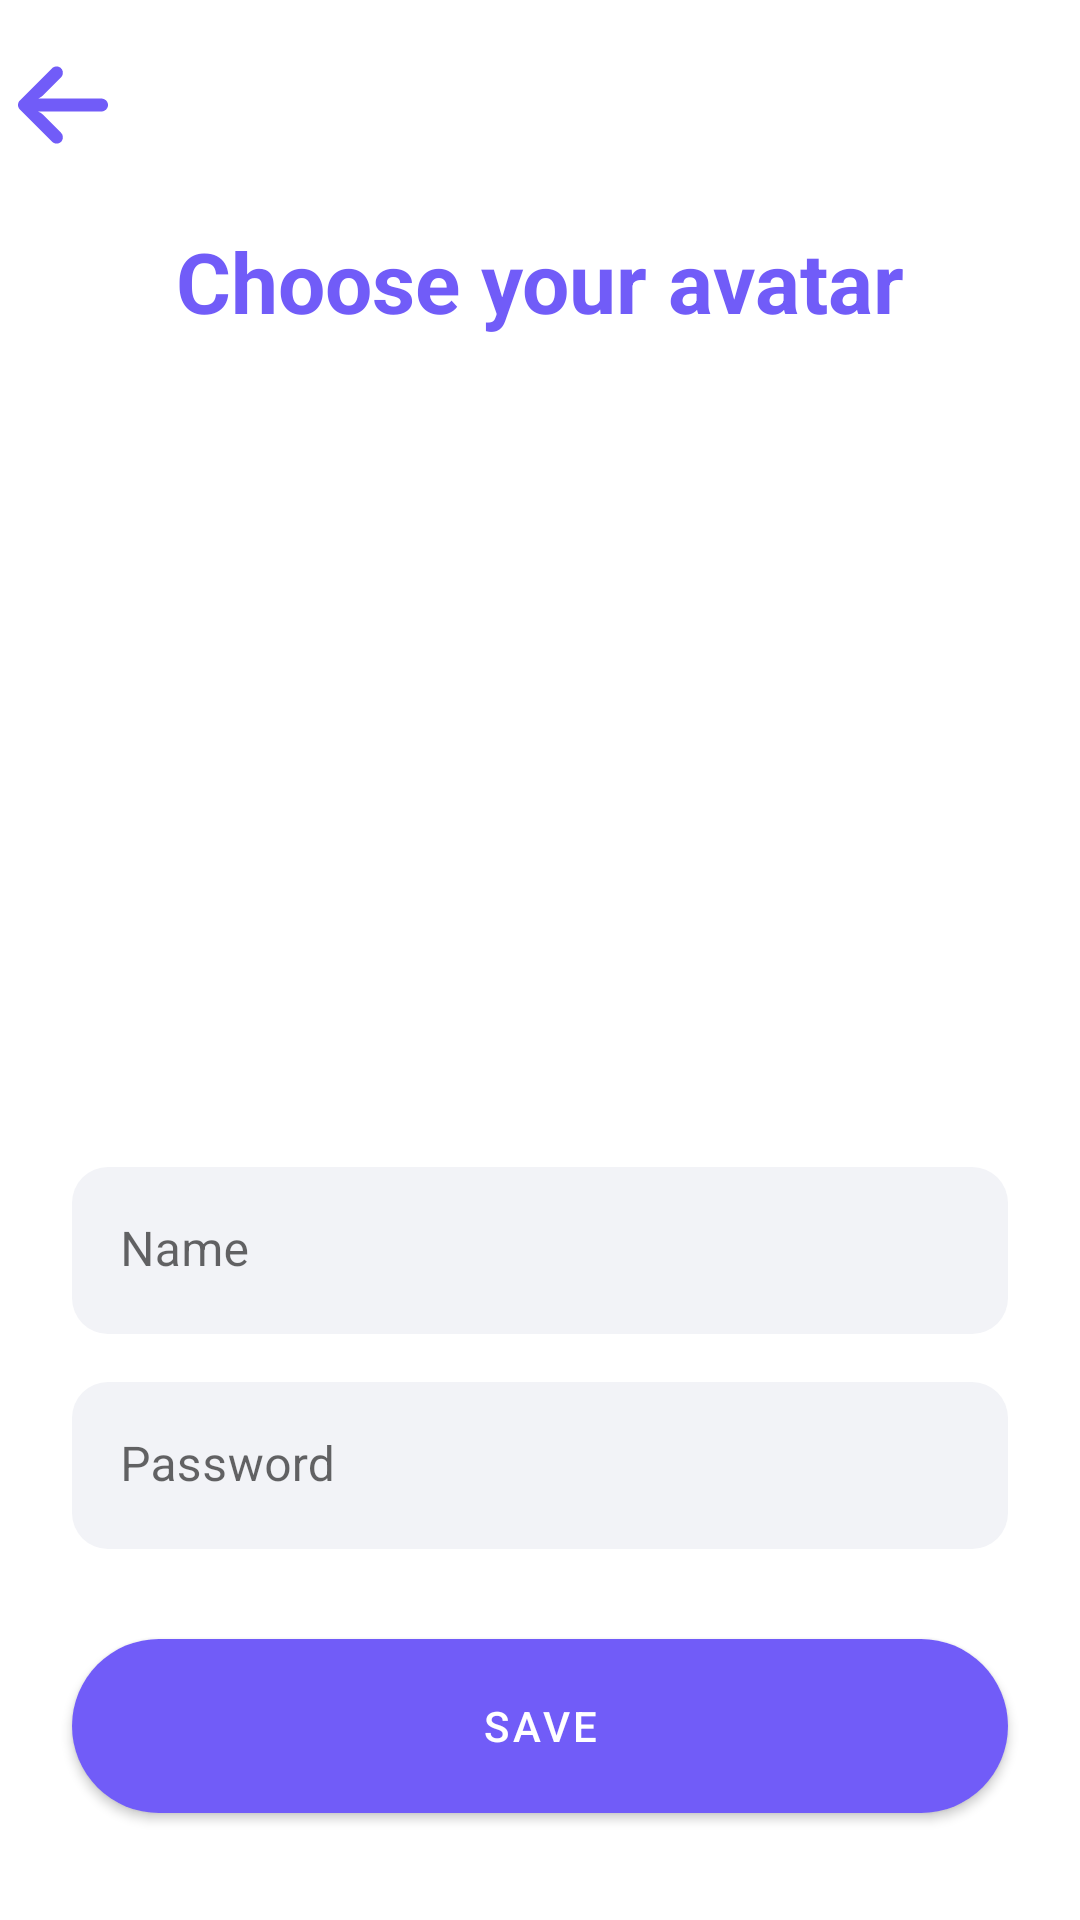

Screen size 1080x1920. Icon name, then its center in pixels as point (x, y):
arrow: point (63, 105)
